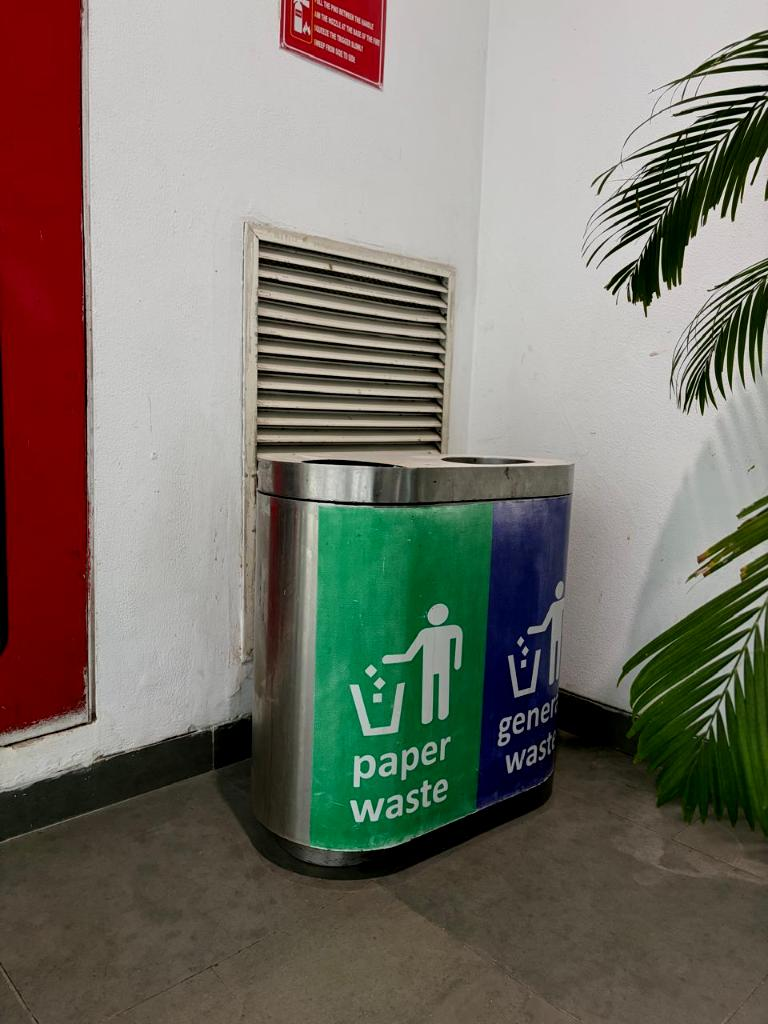dustbin: (237, 421, 591, 890)
